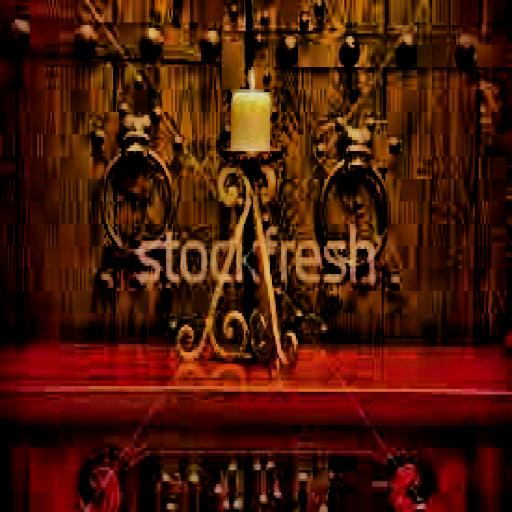fire: (244, 56, 257, 92)
